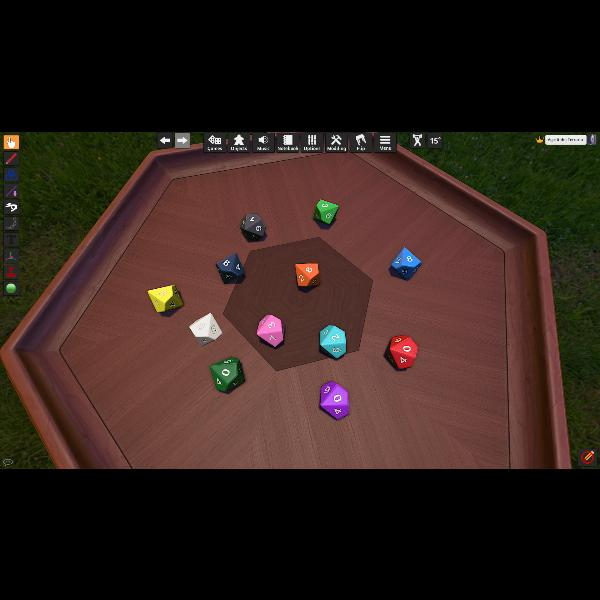d10: (210, 356, 244, 392), (320, 380, 348, 419), (386, 334, 418, 368), (189, 312, 221, 346), (148, 284, 184, 312), (390, 248, 421, 280), (214, 252, 244, 284), (256, 315, 284, 347), (320, 325, 344, 358), (240, 212, 266, 240), (313, 199, 337, 225), (294, 262, 318, 286)
